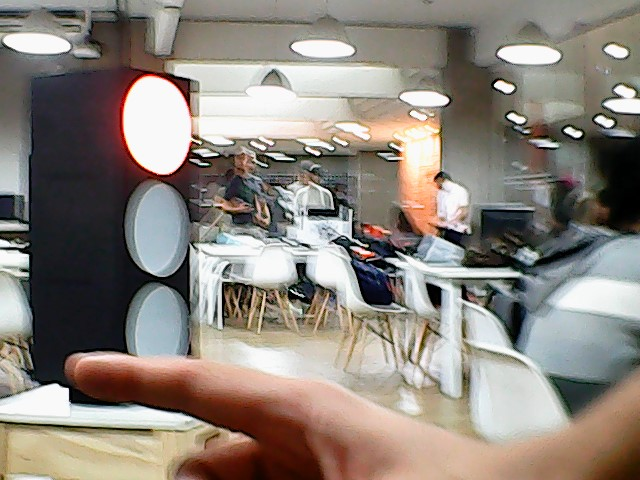vermelho: (23, 49, 210, 390)
